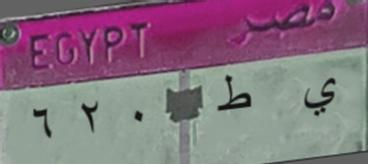0: (130, 107, 148, 129)
2: (74, 94, 104, 138)
6: (30, 104, 54, 144)
Taa: (212, 72, 260, 117)
yaa: (298, 75, 341, 121)
